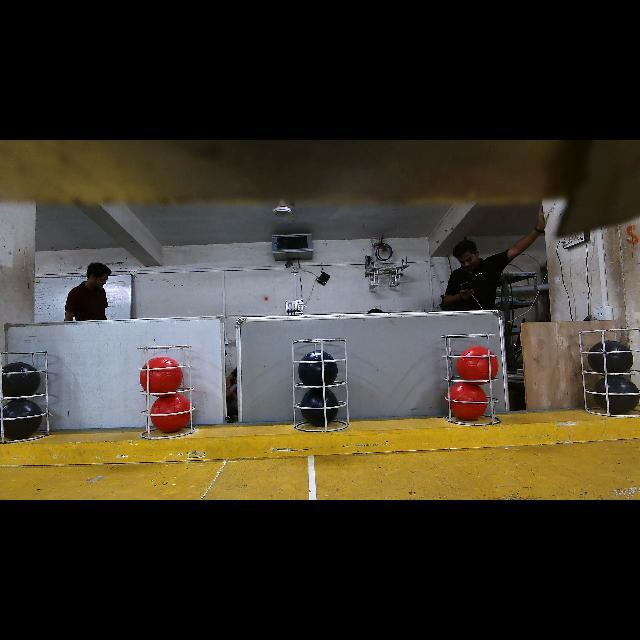P: (594, 375, 639, 412), (3, 399, 42, 439), (298, 350, 338, 389), (588, 341, 634, 373), (301, 388, 339, 426), (2, 362, 41, 397)
R: (150, 395, 191, 433), (140, 357, 182, 393), (449, 383, 487, 421), (457, 347, 498, 382)
S: (440, 334, 508, 426), (134, 344, 196, 440), (291, 338, 351, 434), (576, 328, 640, 418), (1, 350, 51, 444)
